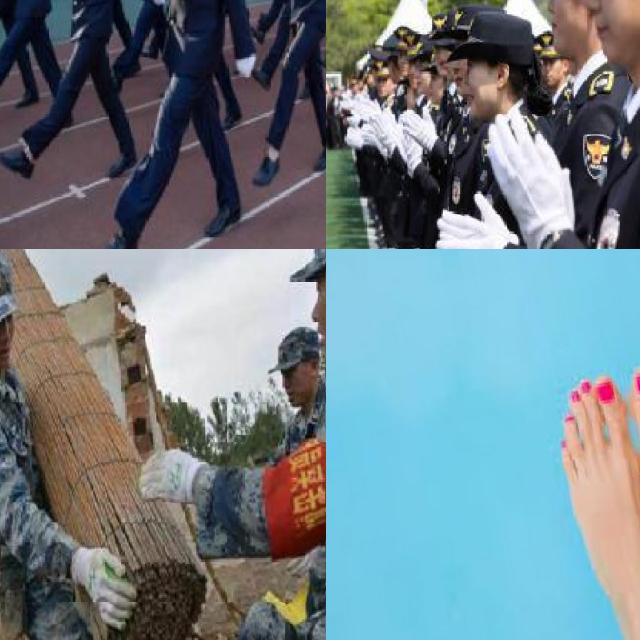Barefoots: (548, 363, 640, 640)
No_Ear-Protection: (494, 60, 512, 89)
face_nomask: (584, 0, 640, 65), (538, 0, 587, 60), (460, 57, 504, 111), (282, 353, 312, 415), (310, 256, 326, 368), (0, 299, 19, 374)
hand_glove: (486, 110, 572, 233), (430, 189, 515, 249), (81, 543, 136, 630), (136, 444, 201, 509), (433, 216, 513, 249), (403, 105, 437, 150), (395, 122, 423, 168), (371, 110, 398, 147), (237, 50, 256, 77), (358, 98, 383, 118), (345, 127, 372, 145), (346, 98, 360, 125), (152, 0, 169, 5)
head_nohelmet: (460, 15, 538, 71), (271, 328, 315, 372), (0, 249, 21, 314)
person: (0, 249, 155, 640), (339, 16, 535, 249), (490, 0, 640, 249), (159, 0, 262, 249), (55, 0, 143, 197), (326, 0, 393, 249), (266, 0, 326, 189), (0, 0, 63, 127)
shoes: (200, 201, 251, 236), (244, 150, 284, 188), (88, 223, 142, 249), (0, 148, 39, 183), (106, 149, 141, 177), (9, 84, 45, 108), (306, 140, 326, 174)
